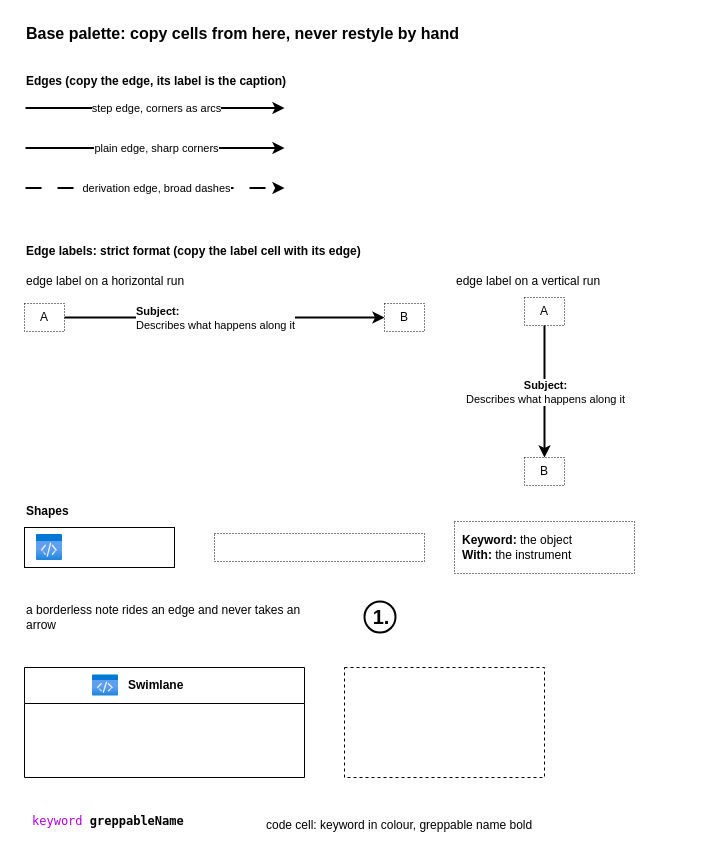
The diagram is 711 pixels wide and 852 high, and some of its shapes have lost their labels. The box of each missing label's shape, as (x1, y1, x2, y2) in pixels:
Actor / app box: (24, 526, 174, 568)
actor cluster (dashed, no fill): (344, 666, 544, 778)
node box, hugging its text: (214, 532, 424, 562)
